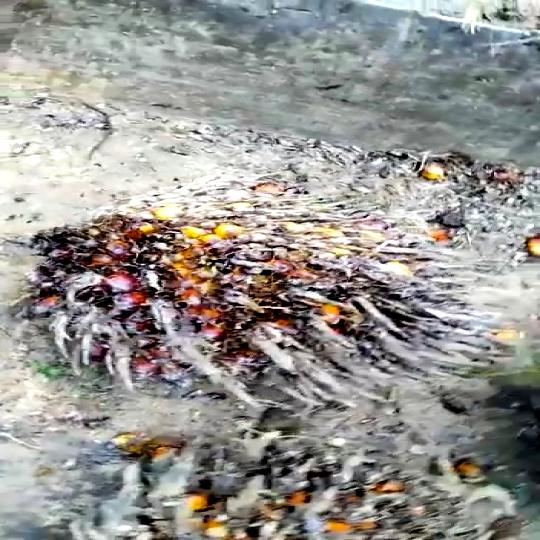terlalu masak: (16, 166, 519, 417)
